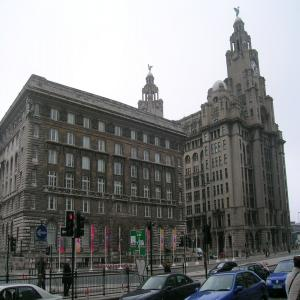Vehicle-registration-plate: (274, 286, 283, 290)
